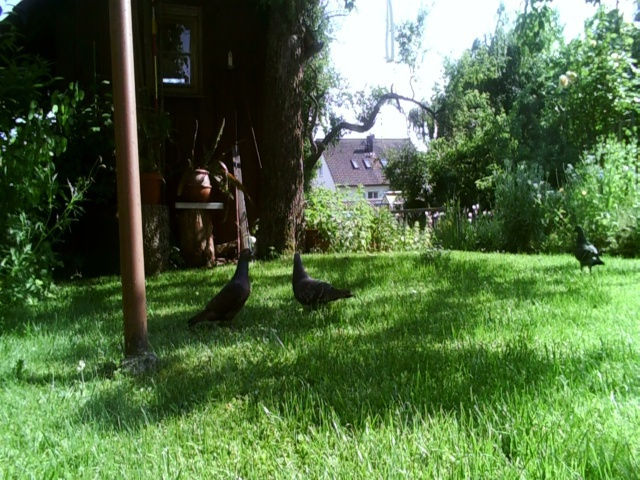Pigeon: (189, 244, 258, 330), (289, 251, 356, 313), (562, 223, 609, 276)
